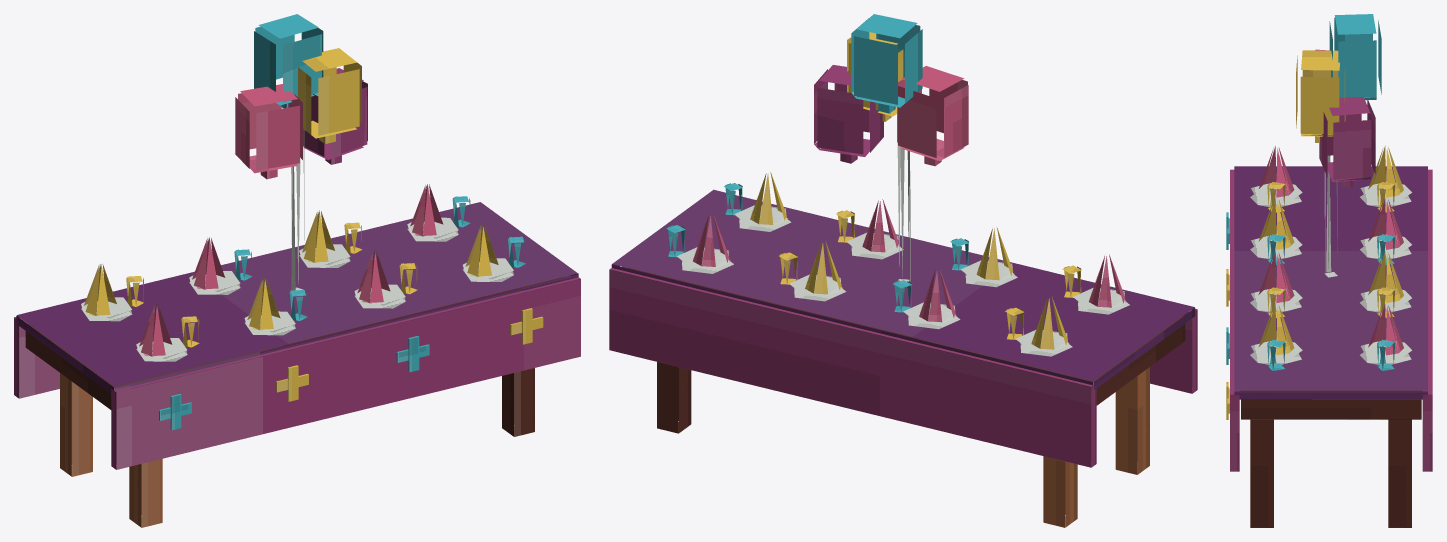
Rendered from restaurant_party_table.glb.
The picture shows the model from 3 angles, left to right: view 1: azimuth 30°, elevation 25°; view 2: azimuth 150°, elevation 25°; view 3: azimuth 270°, elevation 25°; orthographic projection. The views are drawn at different scales.
Visible parts, largest first — view 1: PartyClothFront, PartyClothTop, BlockBalloon_1, BlockBalloon_2, BlockBalloon_3, PartyTableLeg_3, PartyTableTop, PartyTableLeg_1, PartyTableLeg_2, PartyClothBack, BlockBalloon_4, BalloonStem (+16 smaller); view 2: PartyClothBack, PartyClothTop, BlockBalloon_3, BlockBalloon_1, BlockBalloon_4, PartyTableLeg_1, PartyTableTop, PartyTableLeg_3, PartyTableLeg_4, PartyClothFront, BalloonStem, PartyHat_1_B (+16 smaller); view 3: PartyClothTop, PartyTableTop, BlockBalloon_4, BlockBalloon_3, BlockBalloon_2, PartyTableLeg_2, PartyTableLeg_4, PartyClothBack, PartyClothFront, PartyHat_4_B, PartyHat_3_B, PartyHat_1_B (+22 smaller).
Boxes of the visible parts, left/top/right/bottom form: PartyClothFront: left=111, top=277, right=580, bottom=469; PartyClothTop: left=16, top=202, right=578, bottom=394; BlockBalloon_1: left=235, top=84, right=302, bottom=173; BlockBalloon_2: left=298, top=48, right=361, bottom=138; BlockBalloon_3: left=254, top=14, right=323, bottom=105; PartyTableLeg_3: left=60, top=373, right=92, bottom=476; PartyTableTop: left=25, top=277, right=563, bottom=409; PartyTableLeg_1: left=129, top=459, right=162, bottom=527; PartyTableLeg_2: left=502, top=368, right=534, bottom=436; PartyClothBack: left=14, top=317, right=59, bottom=398; BlockBalloon_4: left=303, top=68, right=367, bottom=159; BalloonStem: left=290, top=129, right=304, bottom=290; PartyClothBack: left=609, top=268, right=1096, bottom=467; PartyClothTop: left=611, top=189, right=1195, bottom=389; BlockBalloon_3: left=851, top=14, right=922, bottom=107; BlockBalloon_1: left=897, top=66, right=968, bottom=161; BlockBalloon_4: left=814, top=65, right=883, bottom=156; PartyTableLeg_1: left=1115, top=367, right=1149, bottom=474; PartyTableTop: left=627, top=268, right=1185, bottom=405; PartyTableLeg_3: left=1043, top=456, right=1077, bottom=527; PartyTableLeg_4: left=657, top=362, right=691, bottom=433; PartyClothFront: left=1150, top=309, right=1197, bottom=393; BalloonStem: left=897, top=144, right=910, bottom=281; PartyHat_1_B: left=1031, top=296, right=1069, bottom=349; PartyClothTop: left=1234, top=166, right=1427, bottom=399; PartyTableTop: left=1241, top=390, right=1421, bottom=419; BlockBalloon_4: left=1319, top=97, right=1375, bottom=181; BlockBalloon_3: left=1329, top=14, right=1381, bottom=100; BlockBalloon_2: left=1296, top=50, right=1345, bottom=136; PartyTableLeg_2: left=1250, top=419, right=1273, bottom=527; PartyTableLeg_4: left=1388, top=419, right=1411, bottom=527; PartyClothBack: left=1422, top=169, right=1432, bottom=471; PartyClothFront: left=1230, top=169, right=1239, bottom=471; PartyHat_4_B: left=1368, top=303, right=1403, bottom=355; PartyHat_3_B: left=1368, top=251, right=1403, bottom=302; PartyHat_1_B: left=1368, top=145, right=1403, bottom=197.
Bounding box in the file's own units: 2.62 × 2.23 × 1.02.
Materials: 1 (1 with a texture image).
